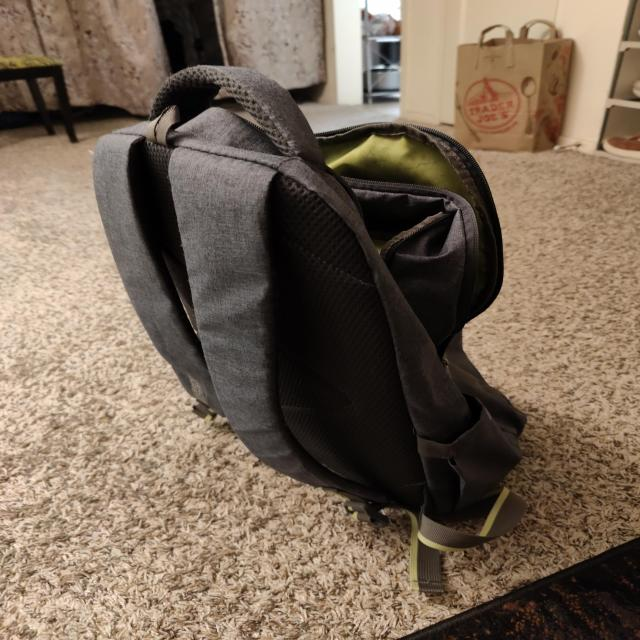bag: (98, 66, 510, 515)
